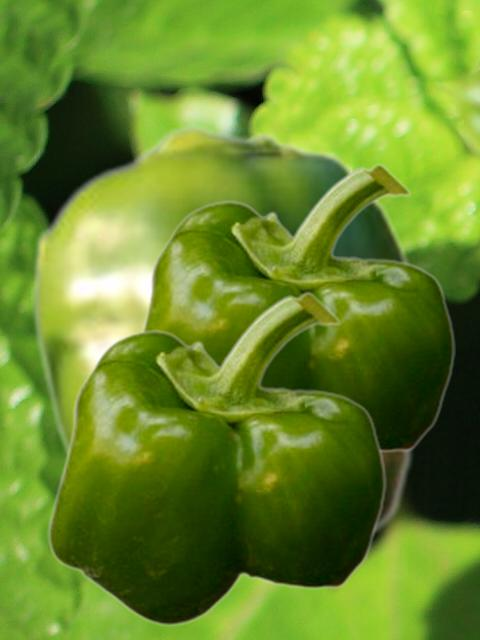bell_pepper: (31, 123, 421, 542), (47, 291, 385, 626), (138, 163, 454, 456)
